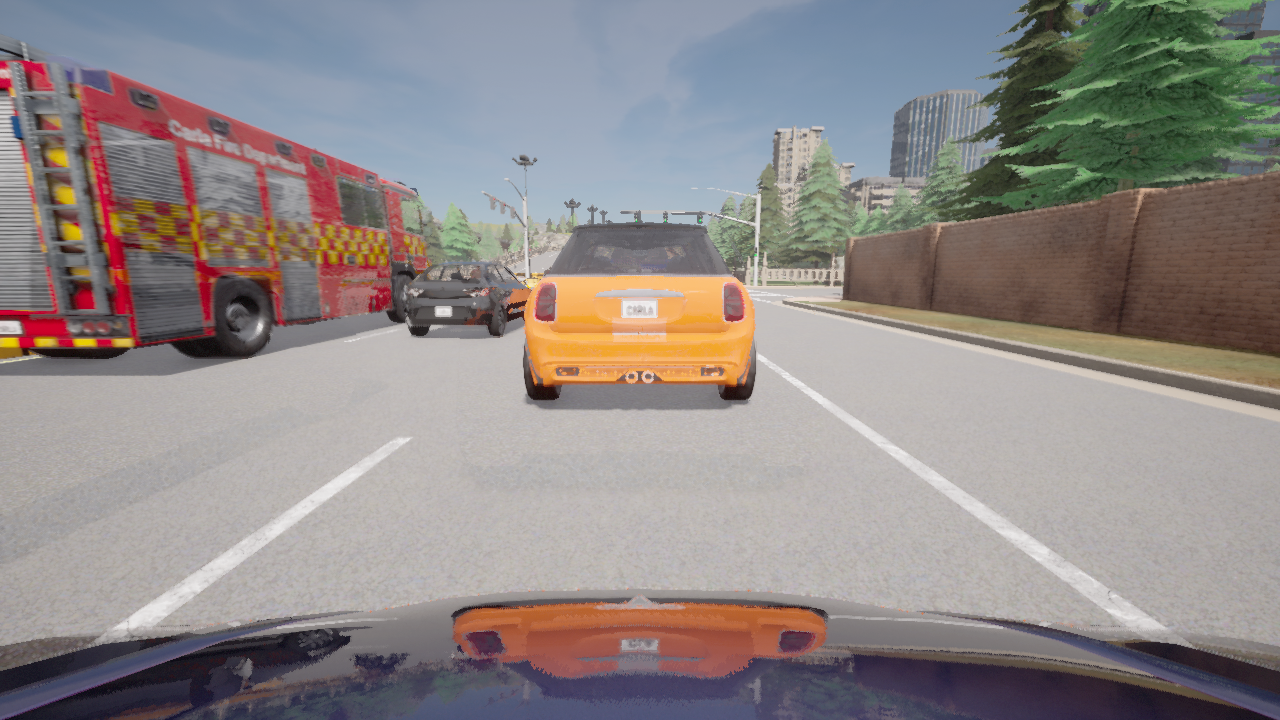cyclist: (0, 588, 1279, 719), (523, 211, 757, 400), (406, 260, 532, 336), (544, 275, 546, 277)
